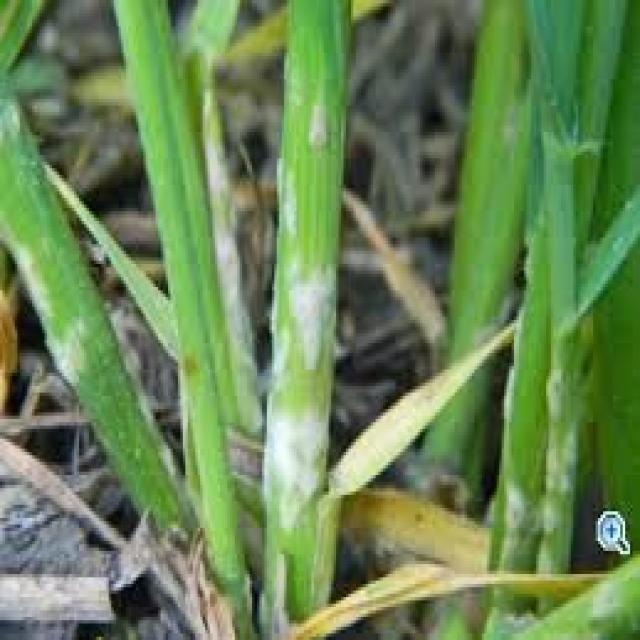Powdery Mildew: (183, 165, 337, 533), (488, 340, 584, 605)
